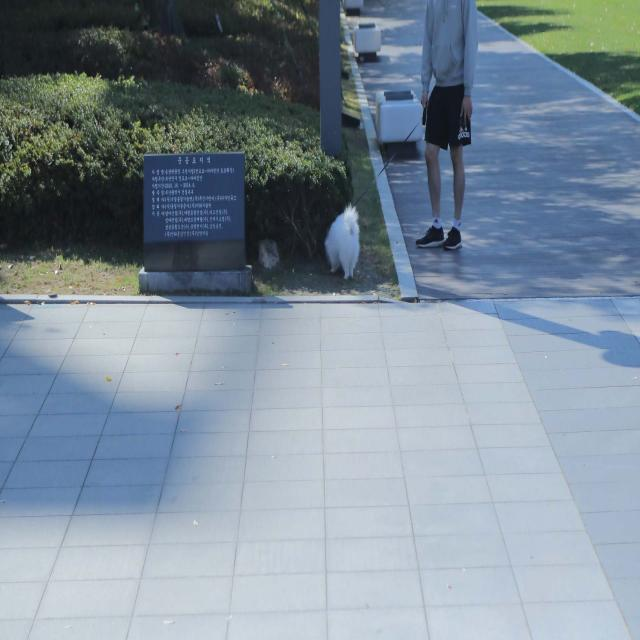Leashed_Dog: (324, 86, 448, 284)
